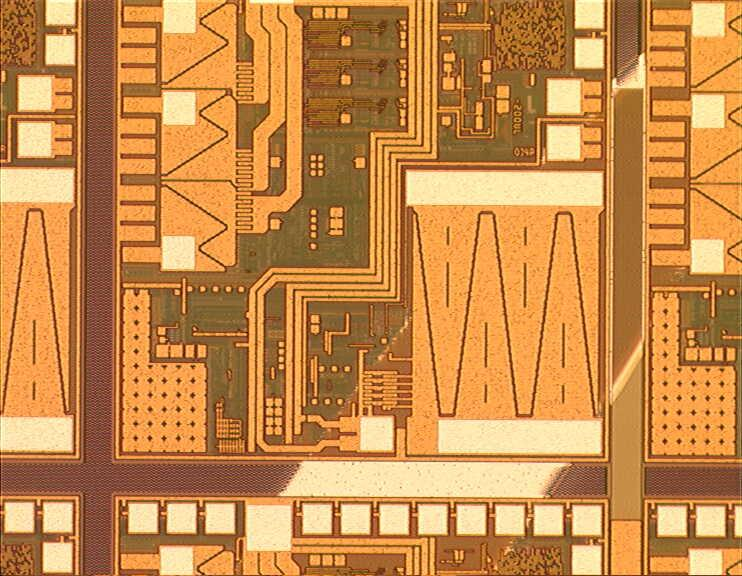BLOCK ETCH: (228, 2, 742, 576)
